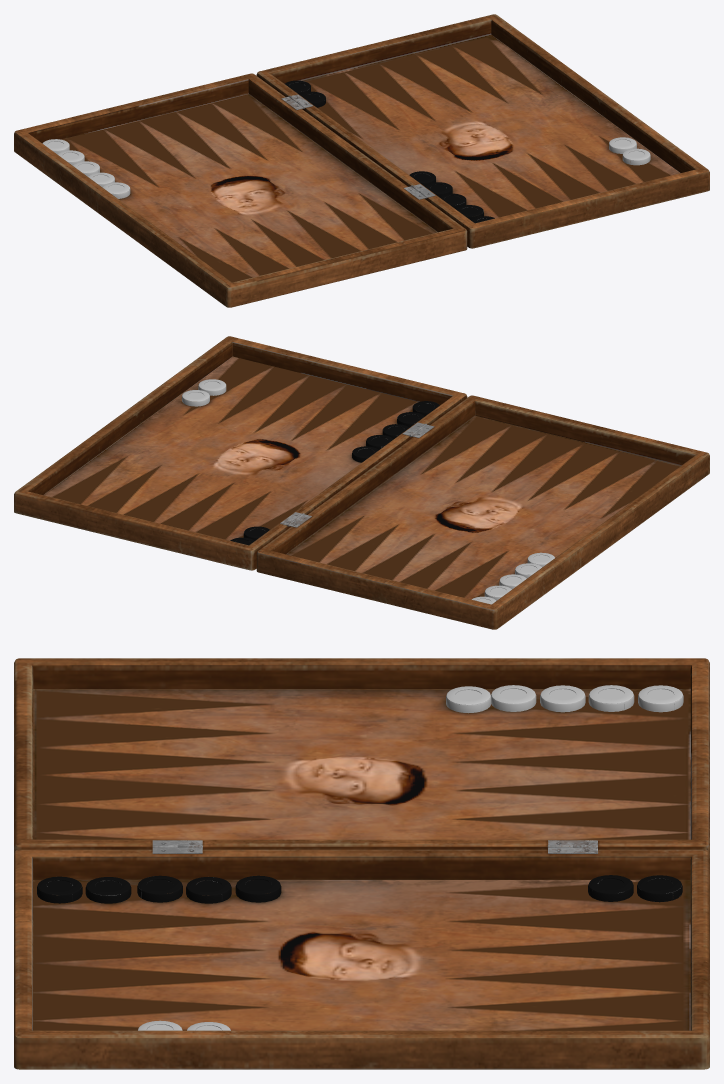
The model's file is nards_vitya.fbx.
3 renders of one model, top to bottom at view 1: azimuth 30°, elevation 25°; view 2: azimuth 150°, elevation 25°; view 3: azimuth 270°, elevation 25°, orthographic. The views are drawn at different scales.
Bounding box in the file's own units: 866 × 36.6 × 669.
1 material, 1 textured.
